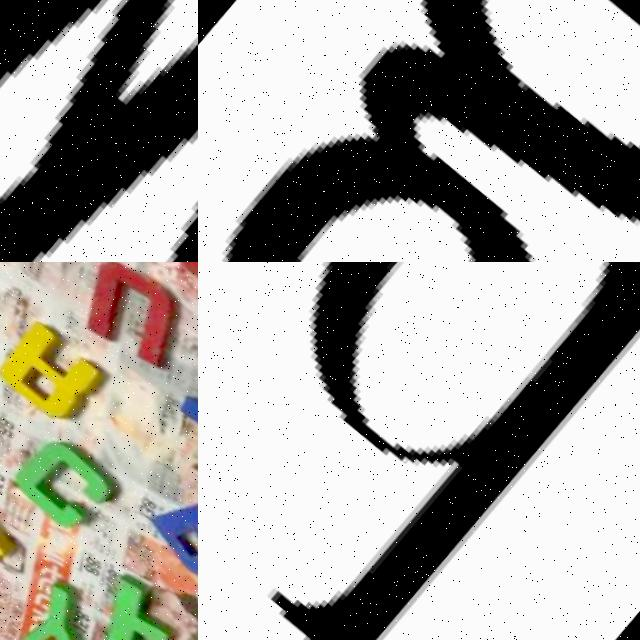B: (144, 477, 198, 612)
C: (6, 428, 125, 547)
D: (198, 262, 640, 640)
F: (89, 578, 198, 640)
G: (198, 0, 640, 262)
L: (0, 466, 29, 597)
R: (0, 318, 108, 433)
U: (59, 262, 198, 393)
W: (0, 0, 198, 262)
Y: (9, 579, 118, 640)
